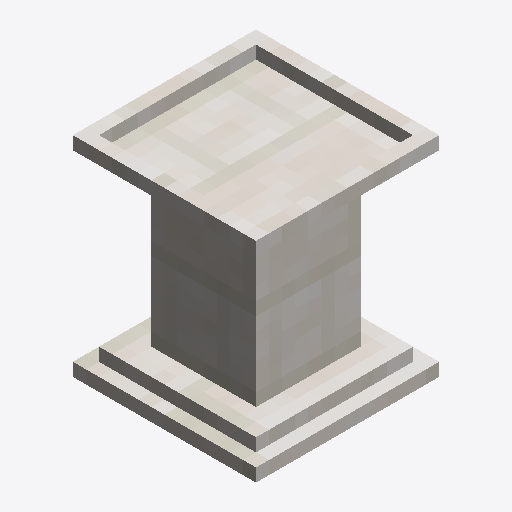
A Minecraft block model of 8 cuboids, rendered isometrically (azimuth 45°, elevation 35.3°) with the resource pack's own textures.
Parts seen in each view (by area): element 3, element 4, element 2, element 1, element 5, element 7, element 6, element 8.
Boxes of the visible parts, box(x1,y1,x2,y2) form: element 3: box(151, 196, 360, 406); element 4: box(112, 60, 399, 224); element 2: box(99, 317, 412, 451); element 1: box(73, 347, 438, 481); element 5: box(243, 128, 438, 255); element 7: box(73, 30, 267, 157); element 6: box(86, 135, 255, 247); element 8: box(256, 37, 425, 141).
Size of the model in its own units: 14 by 16 by 14.